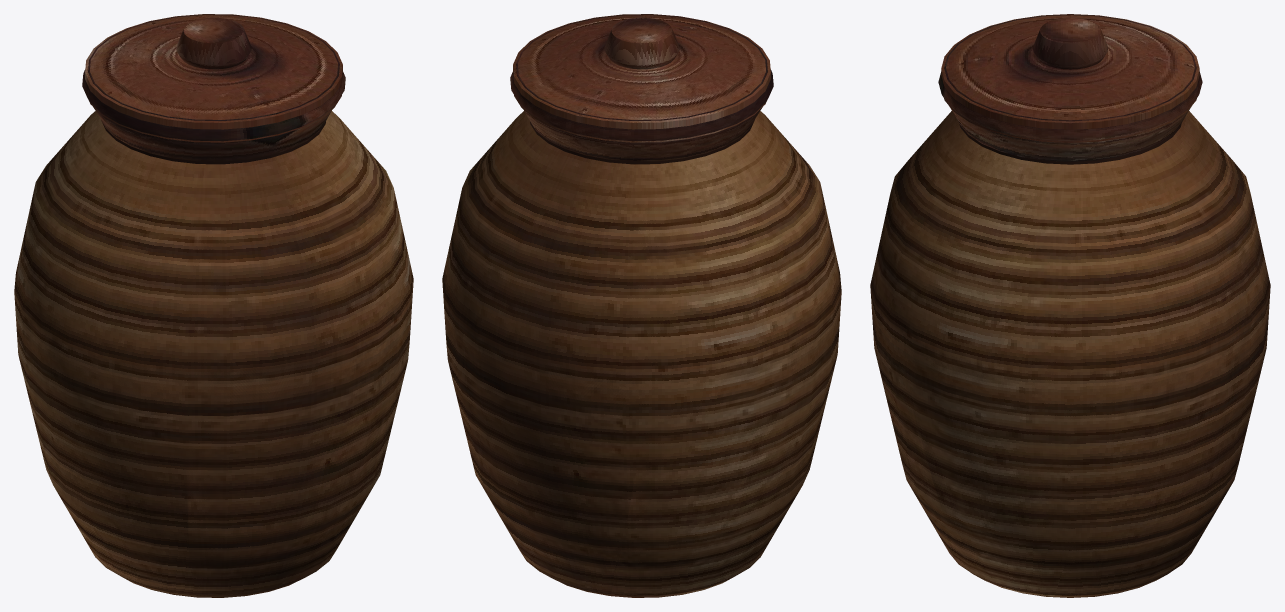
The model's file is jar_storage_sooted.glb.
3 views of the same model, side by side, from view 1: azimuth 30°, elevation 25°; view 2: azimuth 150°, elevation 25°; view 3: azimuth 270°, elevation 25° (orthographic).
Visible parts, largest first — view 1: body, piece_01, piece_06, piece_12, piece_07, piece_08, piece_10, piece_11, piece_02, piece_13, piece_09, piece_05; view 2: body, piece_10, piece_04, piece_05, piece_12, piece_11, piece_06, piece_09, piece_08, piece_07, piece_13, piece_03; view 3: body, piece_03, piece_08, piece_02, piece_09, piece_10, piece_01, piece_07, piece_04, piece_12, piece_13, piece_11.
Part boxes in pixels (left/top/right/bottom): body: left=14, top=14, right=413, bottom=597; piece_01: left=188, top=329, right=388, bottom=597; piece_06: left=29, top=323, right=191, bottom=596; piece_12: left=32, top=63, right=218, bottom=368; piece_07: left=191, top=75, right=387, bottom=370; piece_08: left=218, top=23, right=413, bottom=328; piece_10: left=59, top=14, right=237, bottom=150; piece_11: left=14, top=57, right=157, bottom=310; piece_02: left=370, top=287, right=413, bottom=490; piece_13: left=158, top=24, right=226, bottom=75; piece_09: left=226, top=15, right=330, bottom=46; piece_05: left=14, top=297, right=100, bottom=562; body: left=442, top=14, right=841, bottom=597; piece_10: left=458, top=29, right=682, bottom=376; piece_04: left=458, top=327, right=648, bottom=595; piece_05: left=611, top=342, right=796, bottom=597; piece_12: left=679, top=41, right=841, bottom=341; piece_11: left=653, top=75, right=796, bottom=371; piece_06: left=765, top=293, right=841, bottom=538; piece_09: left=444, top=25, right=623, bottom=316; piece_08: left=538, top=14, right=679, bottom=46; piece_07: left=674, top=15, right=755, bottom=44; piece_13: left=624, top=21, right=681, bottom=74; piece_03: left=444, top=307, right=531, bottom=564; body: left=870, top=14, right=1270, bottom=597; piece_03: left=1039, top=347, right=1228, bottom=597; piece_08: left=900, top=27, right=1075, bottom=370; piece_02: left=900, top=332, right=1044, bottom=594; piece_09: left=1040, top=38, right=1226, bottom=375; piece_10: left=1076, top=19, right=1258, bottom=332; piece_01: left=870, top=287, right=999, bottom=586; piece_07: left=870, top=39, right=1027, bottom=331; piece_04: left=1181, top=331, right=1257, bottom=564; piece_12: left=963, top=14, right=1097, bottom=48; piece_13: left=1029, top=17, right=1083, bottom=48; piece_11: left=1093, top=15, right=1155, bottom=31.
Bounding box in the file's own units: 0.54 × 0.7752 × 0.54.
Materials: 1 (1 with a texture image).
